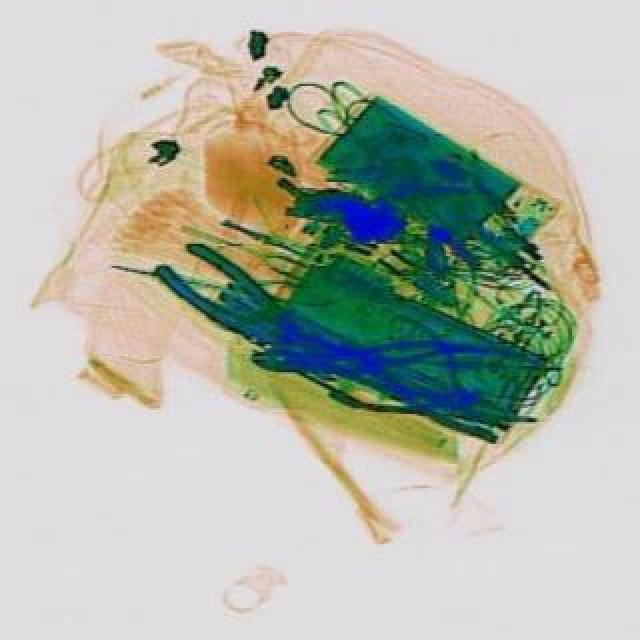wrench: (144, 228, 328, 372), (246, 320, 476, 412), (338, 330, 524, 416)
